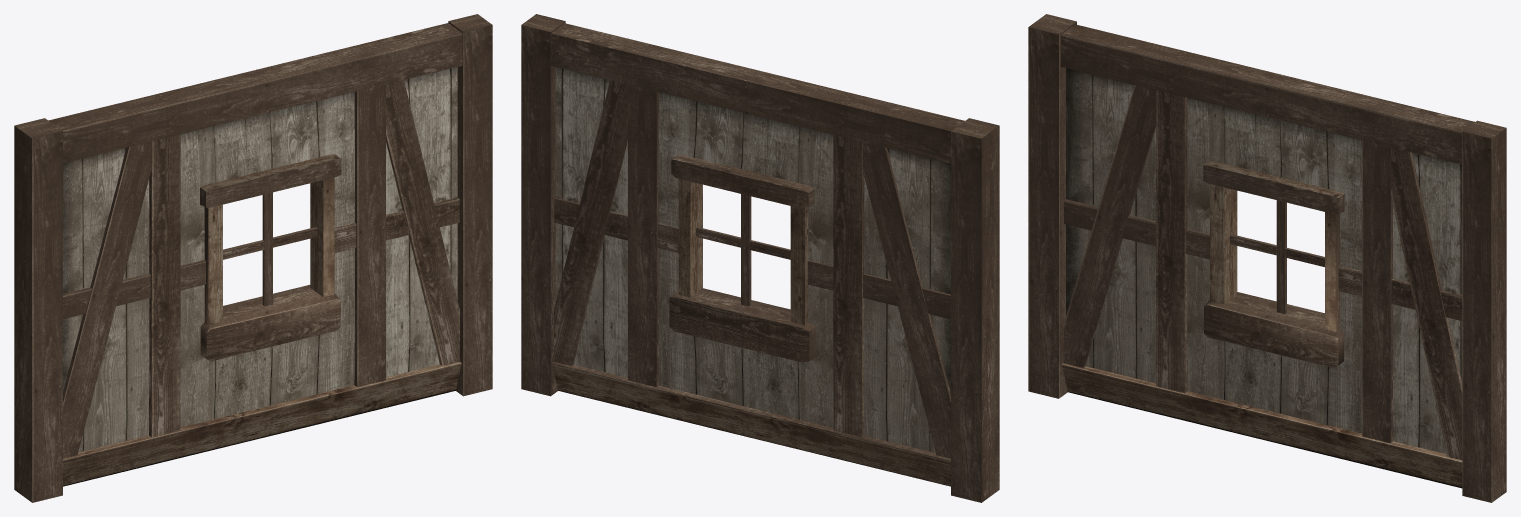
Rendered from Wooden_Window.dae.
3 renders of one model, left to right at view 1: azimuth 30°, elevation 25°; view 2: azimuth 150°, elevation 25°; view 3: azimuth 330°, elevation 25°, orthographic.
Visible parts, largest first — view 1: WoodenWindow1; view 2: WoodenWindow1; view 3: WoodenWindow1.
Part boxes in pixels (x1,y1,x2,y2): WoodenWindow1: [14, 14, 492, 502]; WoodenWindow1: [521, 14, 999, 502]; WoodenWindow1: [1028, 14, 1506, 502].
Size of the model in its own units: 4 by 3.01 by 0.2863.
1 material, 1 textured.
